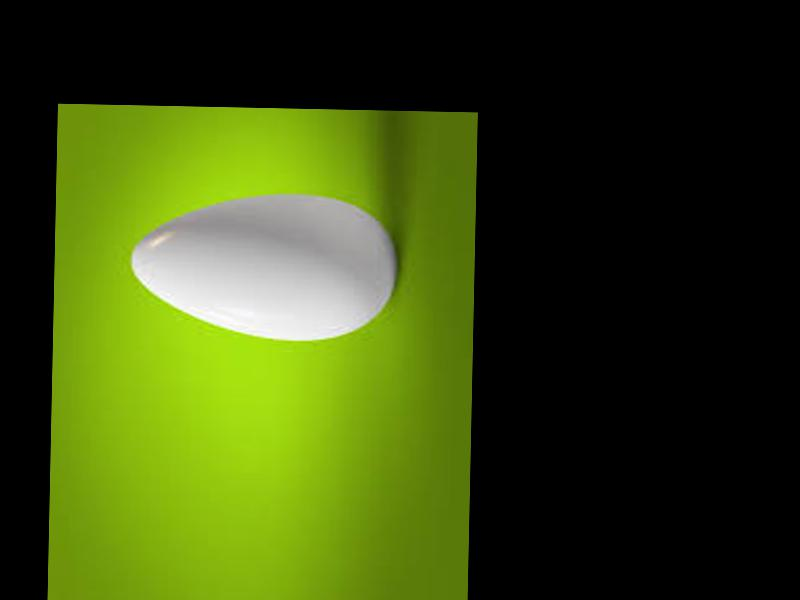Eggs: (125, 190, 396, 342)
